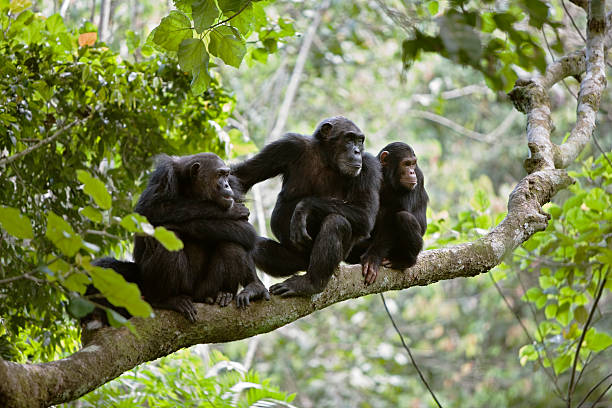chimpanzee: (172, 136, 252, 217), (302, 109, 369, 181), (370, 130, 425, 198)
